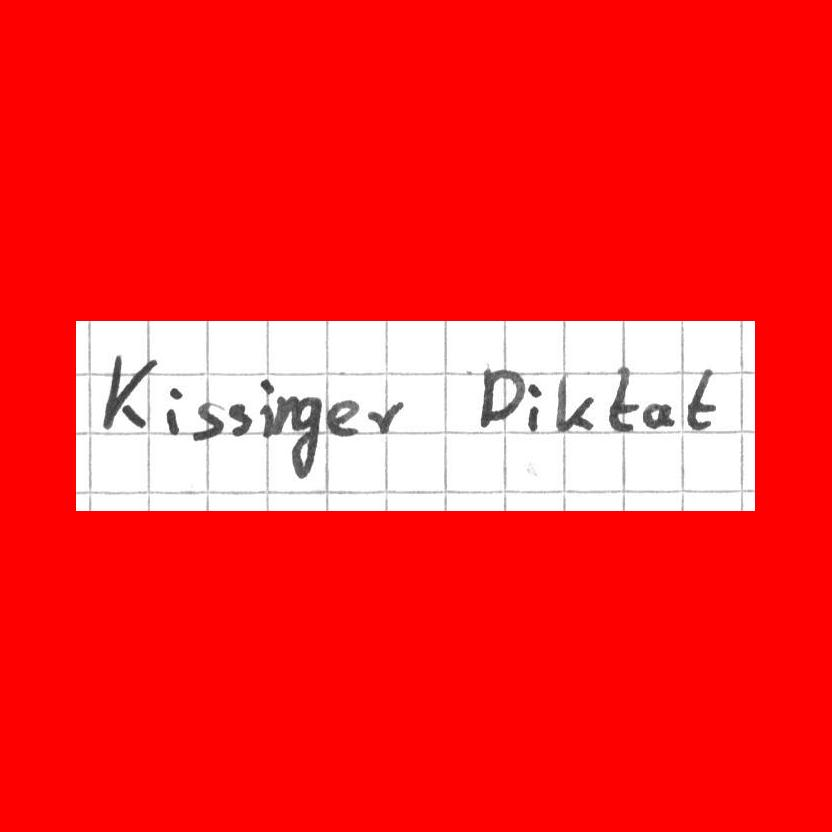Char: (97, 348, 154, 431), (286, 397, 323, 479), (479, 364, 522, 433), (551, 377, 596, 437), (683, 363, 717, 436), (606, 364, 640, 436), (325, 396, 360, 439), (191, 399, 226, 442), (365, 400, 405, 436), (256, 374, 277, 437), (641, 397, 676, 431), (226, 399, 254, 441), (272, 393, 298, 436), (163, 383, 183, 436), (525, 380, 542, 434)
